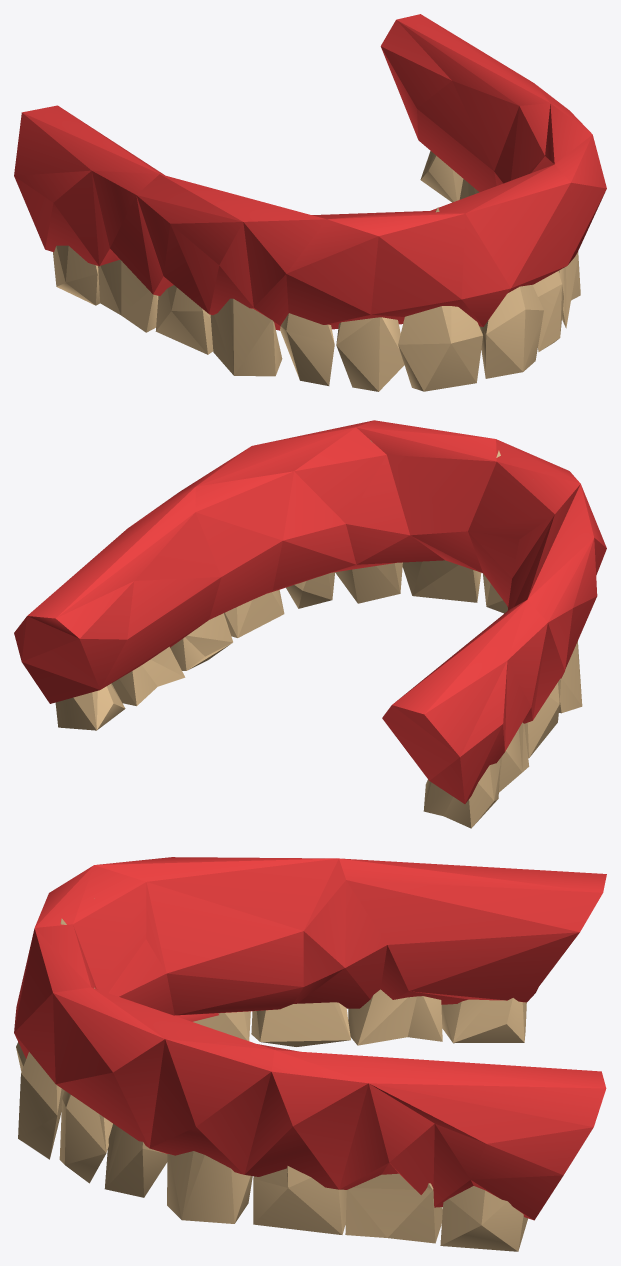
The model's file is UpperTeeth.fbx.
3 renders of one model, top to bottom at view 1: azimuth 30°, elevation 25°; view 2: azimuth 150°, elevation 25°; view 3: azimuth 270°, elevation 25°, orthographic. The views are drawn at different scales.
Parts seen in each view (by area): view 1: UpperTeeth; view 2: UpperTeeth; view 3: UpperTeeth.
Part boxes in pixels (<box>): UpperTeeth: <box>14,14,606,391</box>; UpperTeeth: <box>14,420,606,828</box>; UpperTeeth: <box>14,857,606,1251</box>.
Bounding box in the file's own units: 92.57 × 37.04 × 95.6.
